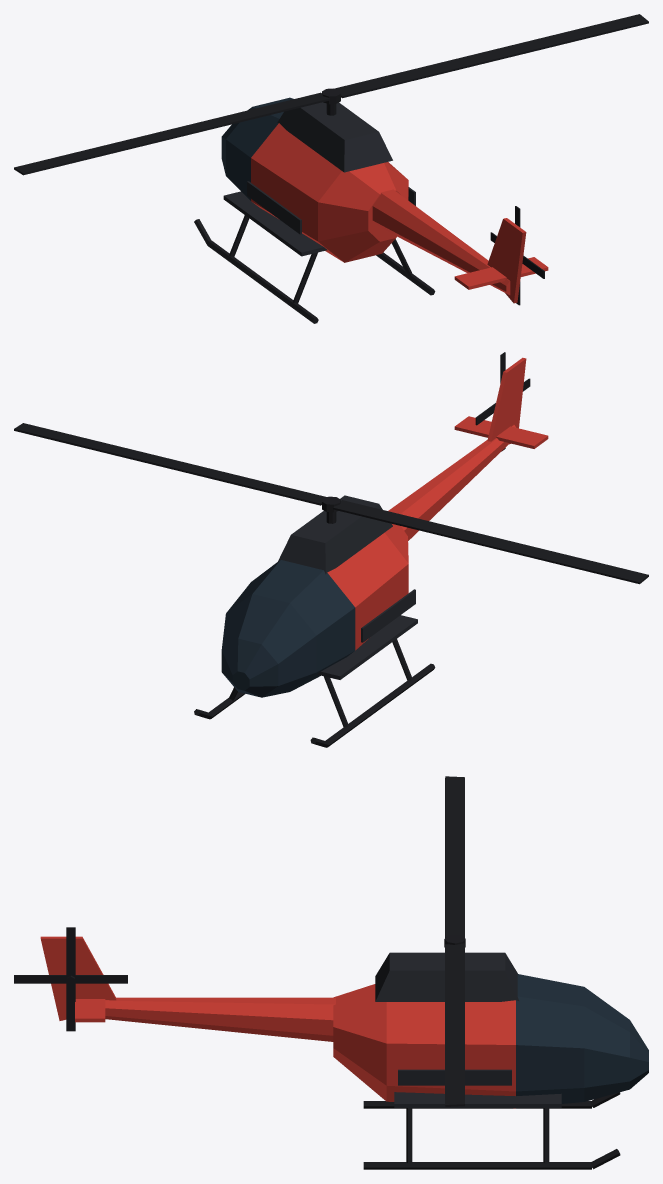
Rendered from helicopter.glb.
3 renders of one model, top to bottom at view 1: azimuth 30°, elevation 25°; view 2: azimuth 150°, elevation 25°; view 3: azimuth 270°, elevation 25°, orthographic. The views are drawn at different scales.
Parts seen in each view (by area): view 1: helicopter_Body, helicopter_Rotor_Main, helicopter_Rotor_Tail; view 2: helicopter_Body, helicopter_Rotor_Main; view 3: helicopter_Body, helicopter_Rotor_Main, helicopter_Rotor_Tail.
Boxes of the visible parts, box(x1,y1,x2,y2) form: helicopter_Body: box(194, 97, 548, 323); helicopter_Rotor_Main: box(14, 14, 648, 175); helicopter_Rotor_Tail: box(490, 206, 544, 305); helicopter_Body: box(194, 357, 548, 747); helicopter_Rotor_Main: box(14, 423, 648, 584); helicopter_Body: box(40, 936, 648, 1169); helicopter_Rotor_Main: box(444, 776, 465, 1106); helicopter_Rotor_Tail: box(14, 927, 127, 1031).
Size of the model in its own units: 10.2 by 3.11 by 8.35.
